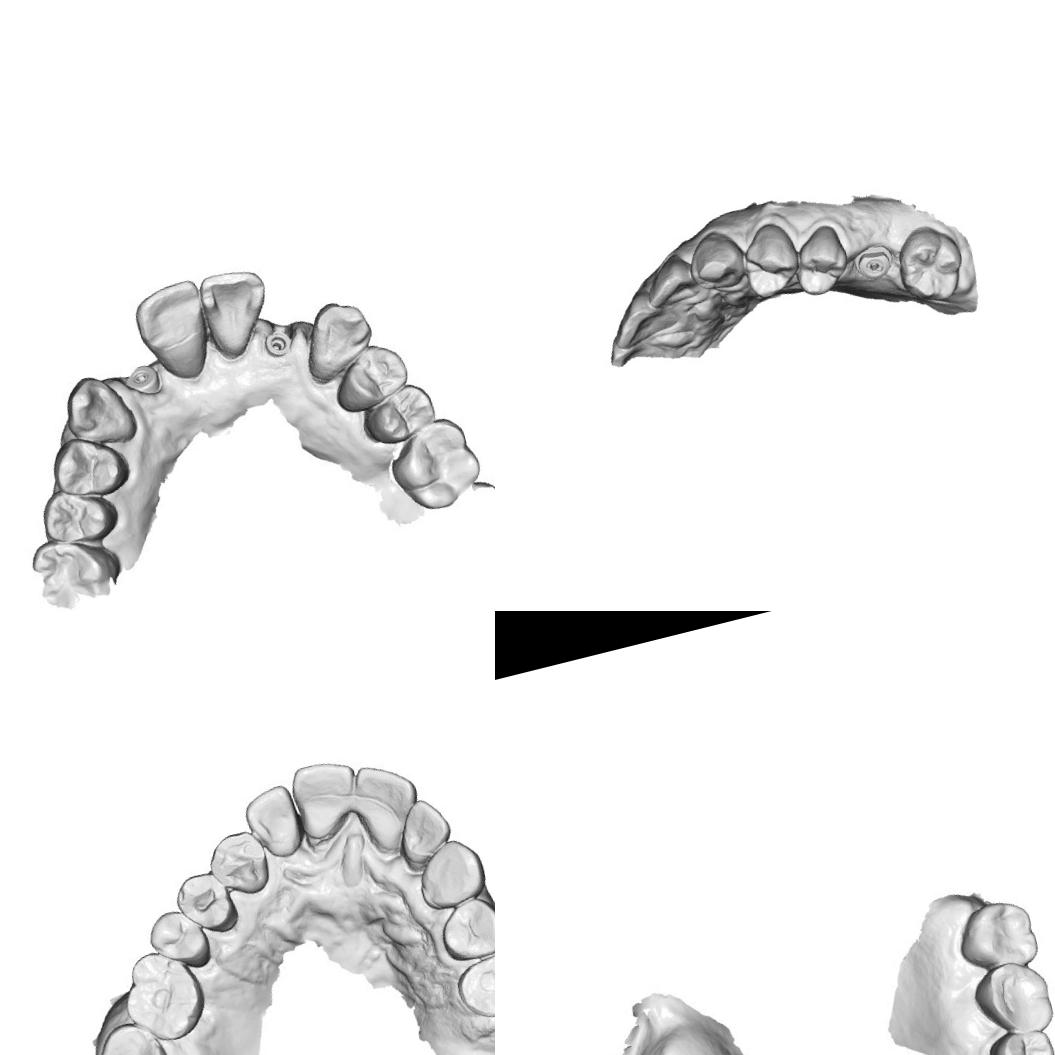canine: (293, 292, 382, 384), (52, 366, 140, 457), (405, 832, 490, 911), (682, 222, 752, 296), (206, 827, 275, 898)
implant: (259, 322, 302, 366), (123, 361, 164, 400)
implant_minus: (848, 239, 894, 284)
incisor: (125, 275, 220, 389), (192, 261, 278, 362), (284, 754, 364, 846), (347, 754, 423, 850), (602, 284, 683, 352), (243, 783, 306, 860), (637, 248, 702, 312), (390, 796, 451, 860)
molar: (380, 408, 488, 518), (117, 944, 209, 1046), (948, 890, 1044, 984), (26, 526, 128, 611), (886, 217, 974, 313), (965, 954, 1055, 1045), (87, 1019, 175, 1055)
premolar: (324, 337, 412, 420), (45, 427, 133, 506), (32, 479, 121, 555), (352, 376, 442, 451), (734, 216, 808, 305), (786, 218, 857, 300), (174, 868, 238, 940), (433, 896, 495, 961), (145, 907, 210, 968), (452, 949, 495, 1030), (986, 1021, 1055, 1055)
